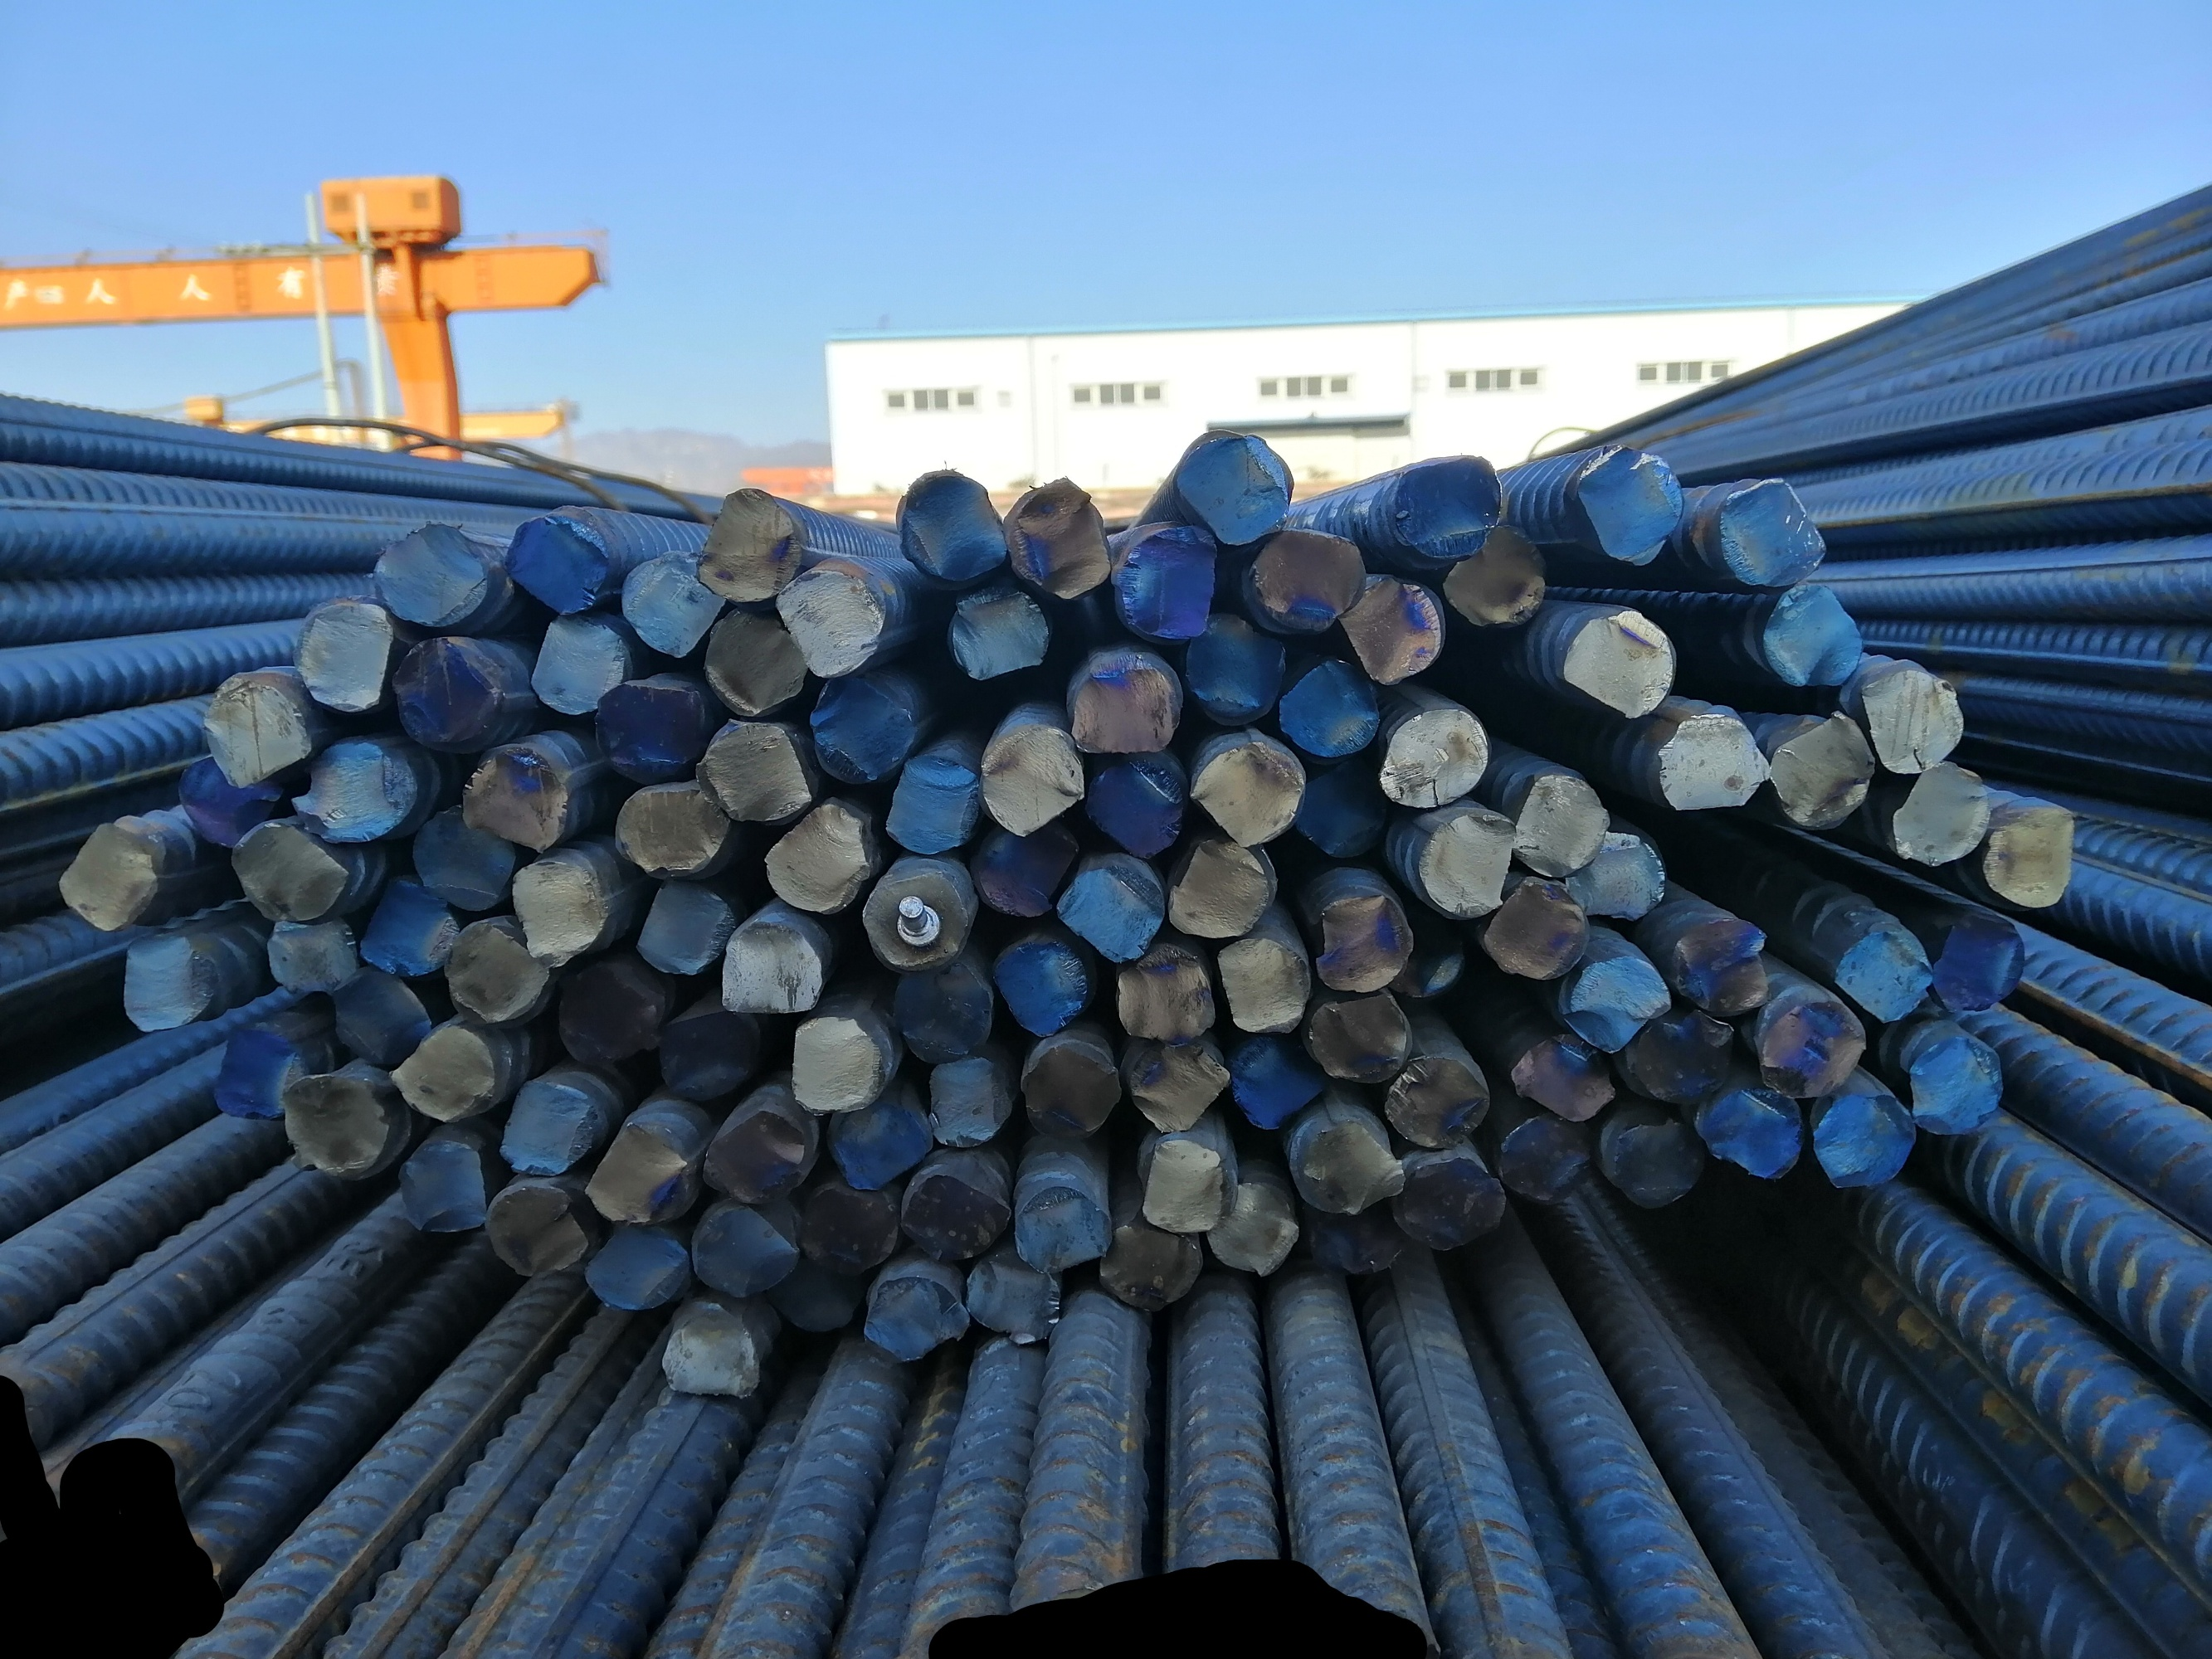rebar: (282, 734, 422, 843), (579, 1105, 692, 1234), (1177, 430, 1299, 549), (1853, 659, 1970, 779), (1717, 469, 1830, 592), (695, 603, 812, 721), (1004, 476, 1112, 603), (1572, 446, 1687, 565), (880, 957, 1004, 1065), (1558, 610, 1677, 721), (1245, 521, 1365, 631), (1766, 711, 1874, 831), (617, 545, 729, 660), (54, 817, 164, 932), (1182, 612, 1292, 727), (373, 519, 490, 627), (695, 714, 812, 823), (389, 633, 495, 751), (228, 816, 349, 920), (288, 1065, 399, 1176), (899, 476, 1011, 587), (974, 727, 1088, 836), (507, 842, 608, 964), (1084, 744, 1194, 856), (1435, 519, 1548, 627), (1762, 990, 1870, 1103), (760, 800, 866, 915), (774, 565, 880, 680), (694, 491, 802, 603), (589, 674, 708, 775), (558, 957, 668, 1065), (406, 802, 514, 911), (462, 744, 568, 856), (811, 671, 917, 782), (1761, 577, 1867, 688), (206, 678, 314, 786), (525, 612, 633, 720), (1482, 875, 1590, 983), (1116, 528, 1222, 638), (856, 866, 971, 967), (582, 1218, 699, 1317), (443, 918, 549, 1026), (1340, 577, 1447, 685), (1890, 755, 1991, 868), (1393, 1157, 1513, 1251), (322, 957, 429, 1063), (1701, 1079, 1808, 1185), (1199, 744, 1307, 849), (1279, 657, 1388, 762), (1396, 453, 1504, 558), (655, 1004, 769, 1103), (1381, 704, 1489, 807), (706, 1105, 816, 1206), (1560, 955, 1670, 1056), (296, 599, 396, 711), (1935, 899, 2029, 1016), (1286, 753, 1391, 857), (356, 875, 462, 978), (633, 873, 739, 976), (1673, 913, 1776, 1019), (387, 1021, 499, 1119), (1658, 716, 1771, 812), (120, 932, 225, 1035), (1905, 1035, 2008, 1140), (1124, 1037, 1232, 1136), (1302, 986, 1410, 1086), (1295, 1117, 1405, 1215), (826, 1093, 936, 1190), (1984, 796, 2076, 911), (1513, 777, 1614, 882), (497, 1073, 598, 1176), (1314, 890, 1417, 992), (659, 1302, 763, 1401), (865, 1267, 973, 1363), (687, 1202, 795, 1298), (490, 1183, 598, 1279), (617, 786, 729, 878), (502, 516, 603, 617), (990, 936, 1089, 1039), (786, 1019, 889, 1119), (718, 917, 823, 1014), (1070, 662, 1175, 760), (1382, 1051, 1487, 1148), (1628, 1004, 1733, 1101), (178, 756, 284, 852), (1112, 946, 1220, 1040), (906, 1175, 1016, 1267), (1103, 1222, 1208, 1317), (1231, 1028, 1327, 1133), (1511, 1030, 1618, 1124), (1062, 861, 1161, 960), (1170, 842, 1271, 939), (1206, 1176, 1302, 1279), (397, 1138, 493, 1241), (1562, 831, 1670, 922), (1023, 1037, 1121, 1136), (1815, 1093, 1914, 1190), (884, 751, 978, 854), (1421, 816, 1515, 917), (1834, 929, 1935, 1023), (973, 826, 1077, 915), (947, 594, 1055, 680), (1217, 934, 1313, 1030), (1013, 1182, 1114, 1272), (960, 1258, 1063, 1347), (797, 1185, 899, 1274), (211, 1019, 300, 1122), (1138, 1138, 1231, 1236), (1607, 1117, 1703, 1209), (924, 1058, 1016, 1152), (1309, 1187, 1405, 1277), (1497, 1112, 1593, 1202), (258, 913, 361, 995), (1393, 904, 1471, 1007), (772, 1251, 866, 1335)
